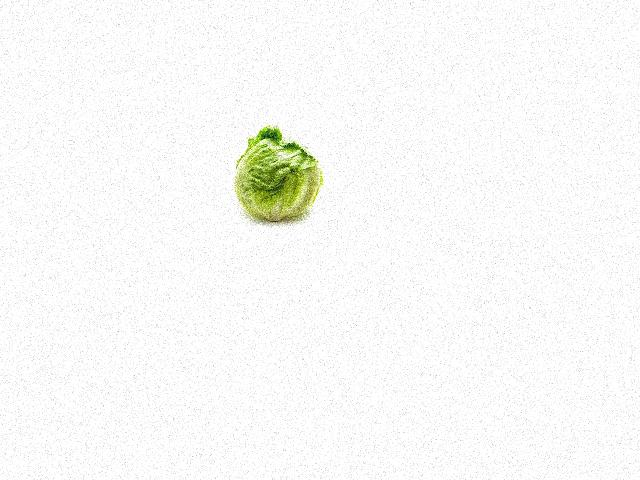lettuce: (231, 125, 330, 225)
